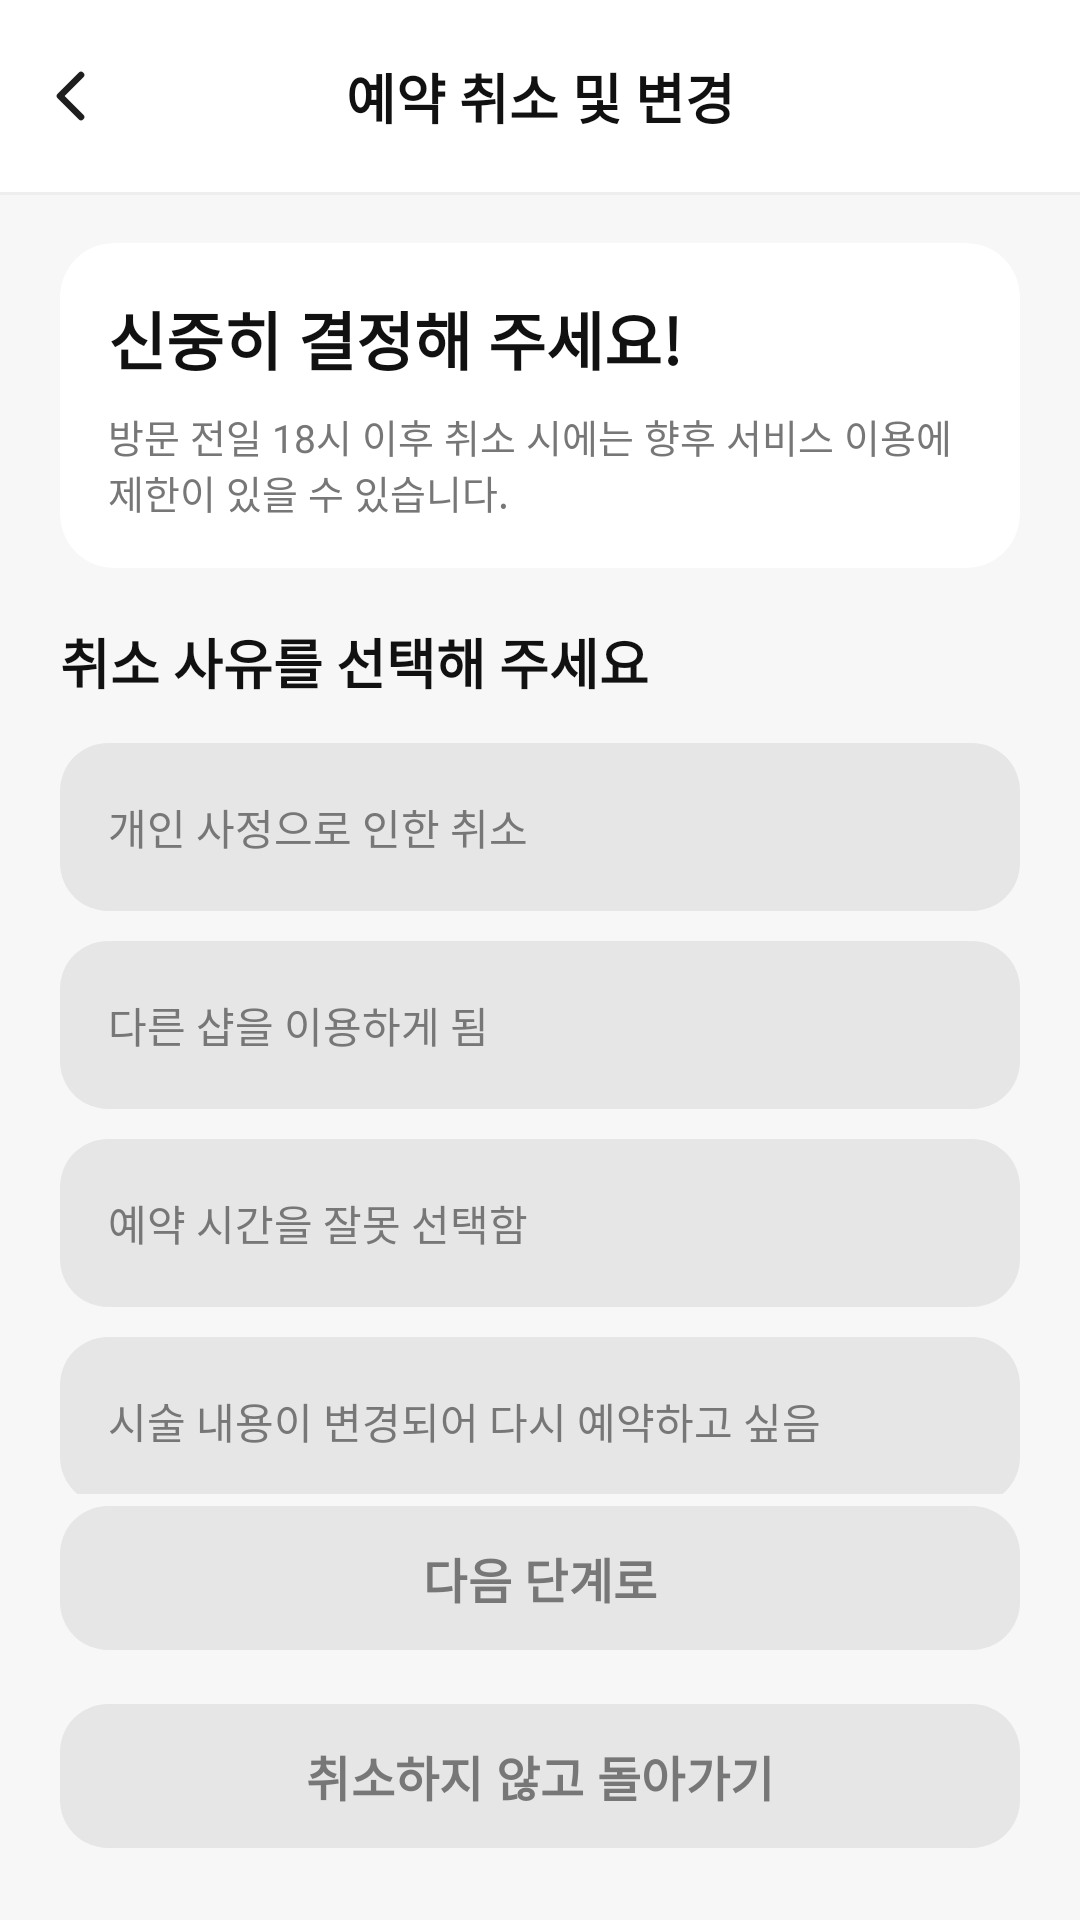

Point at icon controls on the screen. Image size 1080px×1920px, points as [x,y].
뒤로가기: [70,96]
